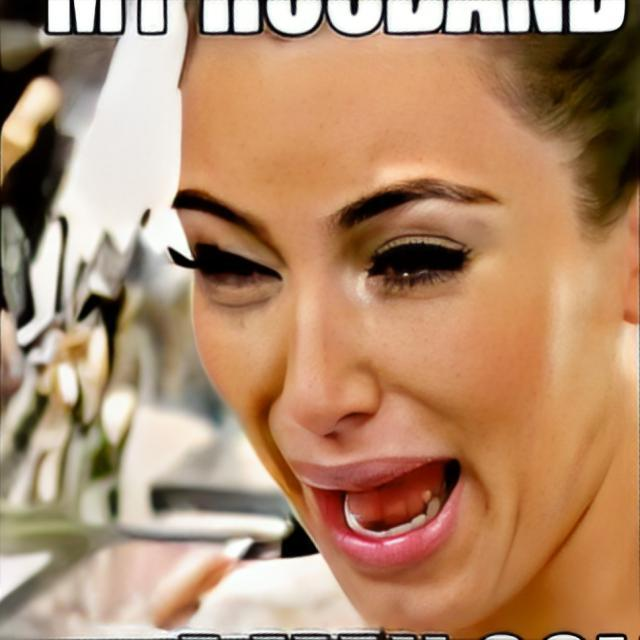sad: (164, 38, 623, 630)
